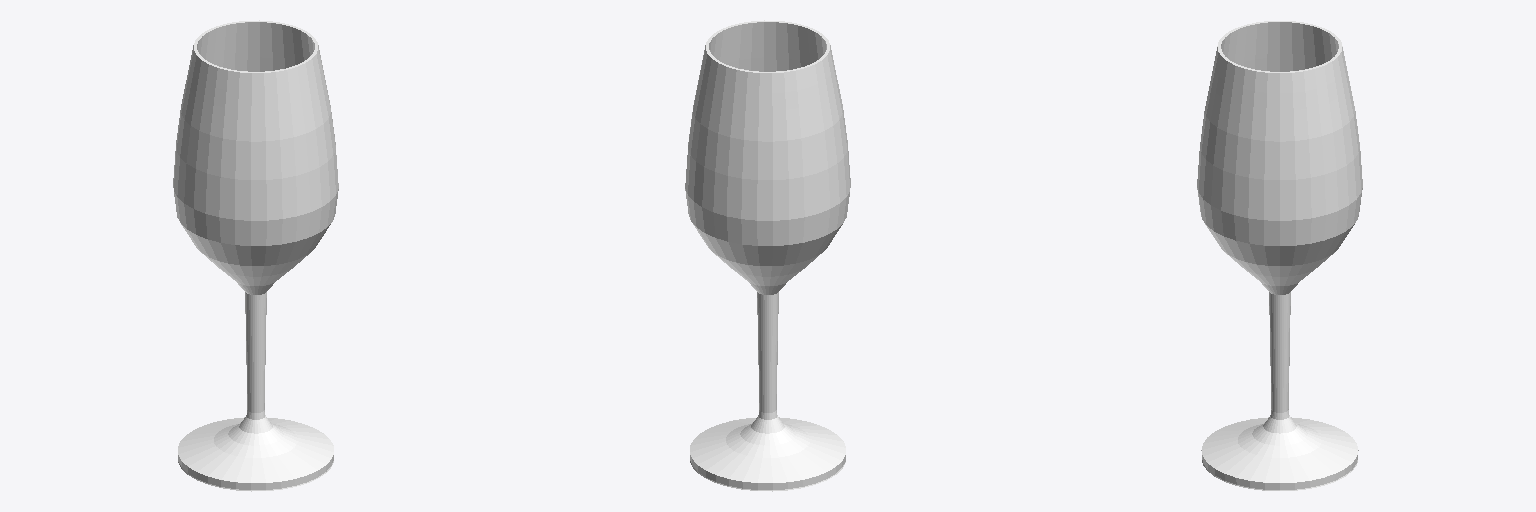
robot.urdf — glass:
<?xml version="1.0"?>
<robot name="glass">
	<link name="base">
	<inertial>
        	 <origin xyz="0 0 0" rpy="0 0 0"/>
        	 <mass value="0.05"/>
        	 <inertia ixx="0.000683333"  ixy="0"  ixz="0" iyy="0.000683333" iyz="0" izz="0.000683333" />
       </inertial>
	<visual>
		<origin xyz="0 0 0.127" rpy="0 0 0" />
		<geometry>
       			 <mesh filename="Glass.stl" scale="0.0254 0.0254 0.0254"/>
      		</geometry>
		<material>
			<color rgba="1 1 1 1" />
		</material>
		</visual>
  	 <collision>
		<origin xyz="0 0 0.127" rpy="0 0 0" />
            <geometry>
       			 <mesh filename="Glass.stl" scale="0.0254 0.0254 0.0254"/>
            </geometry>
	    <material>
			<color rgba="1 1 1 1" />
	    </material>
        </collision>
	</link>
</robot>

--- What the picture shows (computed from the rendered views, not written in the file) ---
The picture shows the robot from 3 angles, left to right: view 1: azimuth 30°, elevation 25°; view 2: azimuth 150°, elevation 25°; view 3: azimuth 270°, elevation 25°; orthographic projection.
Robot: glass — 1 links, 0 joints (none); root link base; default pose: all joints at 0.
Links seen in each view (by area): view 1: base; view 2: base; view 3: base.
Link boxes in pixels (x1,y1,x2,y2): base: (173, 20, 338, 491); base: (685, 20, 850, 491); base: (1197, 21, 1362, 490).
Size in the robot's own frame: 0.0927 by 0.0927 by 0.2534 metres.
Meshes: 1 distinct files referenced, 1 mesh visuals loaded (1 binary STL).